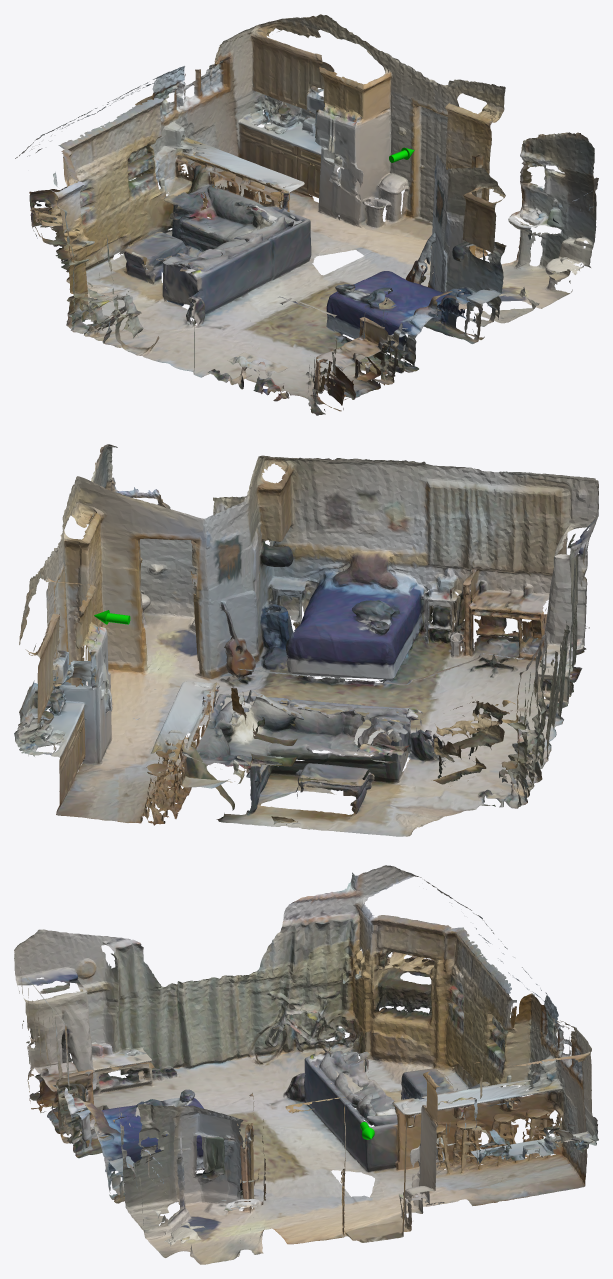
Rendered from situation_3.glb.
3 views of the same model, one above another, from view 1: azimuth 30°, elevation 25°; view 2: azimuth 150°, elevation 25°; view 3: azimuth 270°, elevation 25° (orthographic). The views are drawn at different scales.
Parts seen in each view (by area): view 1: world; view 2: world; view 3: world.
Part boxes in pixels (x1,y1,x2,y2): world: (15,14,598,415); world: (14,444,598,836); world: (14,865,598,1264).
Bounding box in the file's own units: 8.42 × 3.03 × 8.74.
